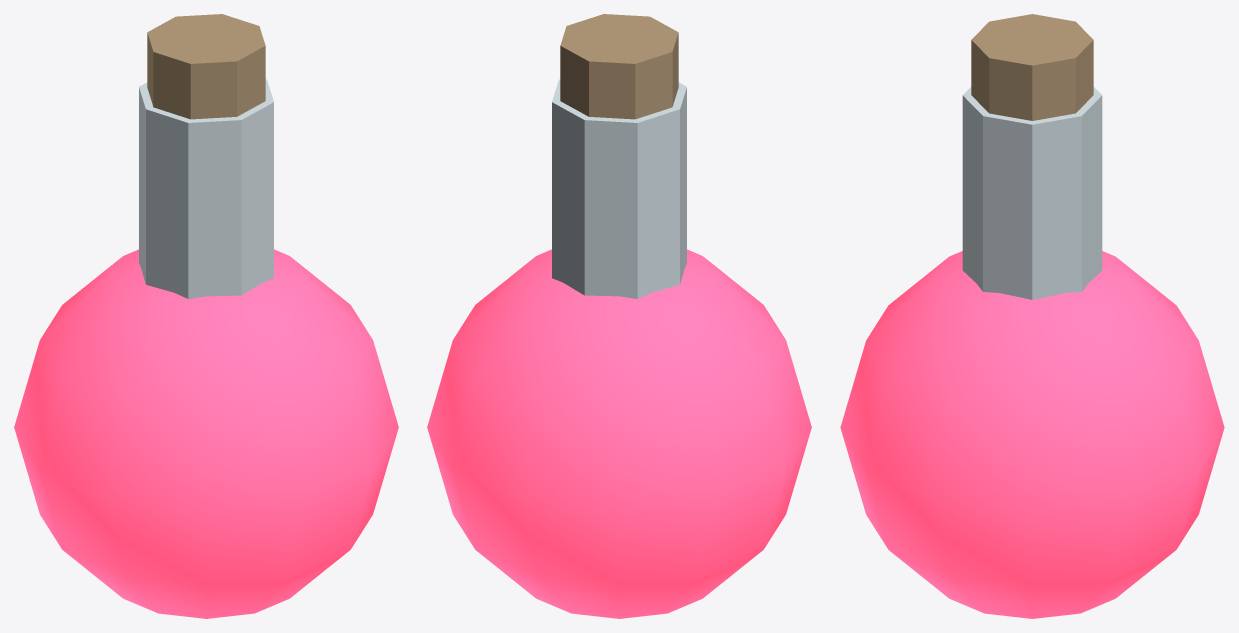
Rendered from potion.glb.
3 renders of one model, left to right at view 1: azimuth 30°, elevation 25°; view 2: azimuth 150°, elevation 25°; view 3: azimuth 270°, elevation 25°, orthographic.
Visible parts, largest first — view 1: potion; view 2: potion; view 3: potion.
Part boxes in pixels (left/top/right/bottom): potion: left=14, top=14, right=398, bottom=618; potion: left=427, top=14, right=811, bottom=618; potion: left=840, top=14, right=1224, bottom=618.
Size of the model in its own units: 0.22 by 0.355 by 0.22.
